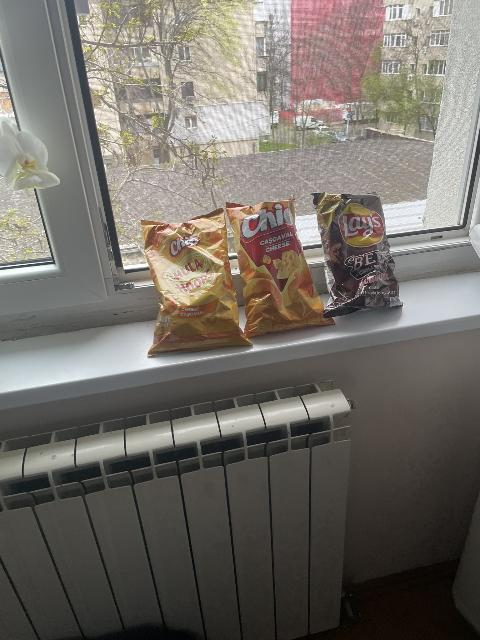Chio Cascaval 125g: (226, 197, 331, 337)
Chio Hula Hoops Cheese 70g: (140, 208, 251, 354)
Lays Beef Grilled Ribs 125g: (317, 191, 403, 317)
